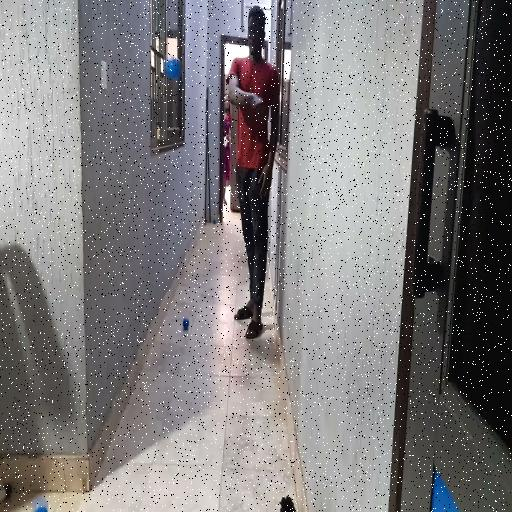plastic-ball: (165, 56, 182, 84)
